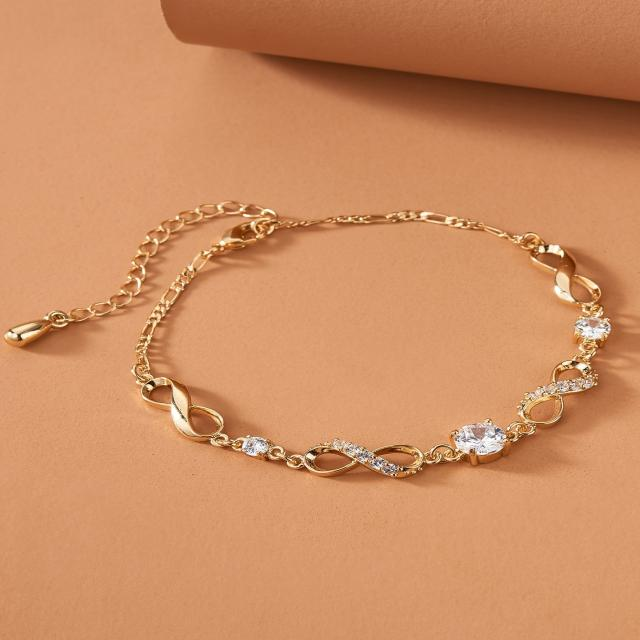bracelet: (0, 139, 640, 534)
